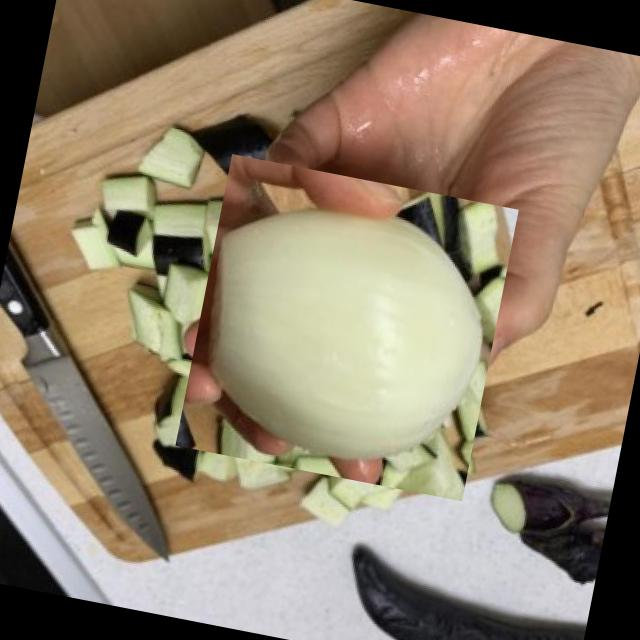Onion: (173, 154, 520, 500)
